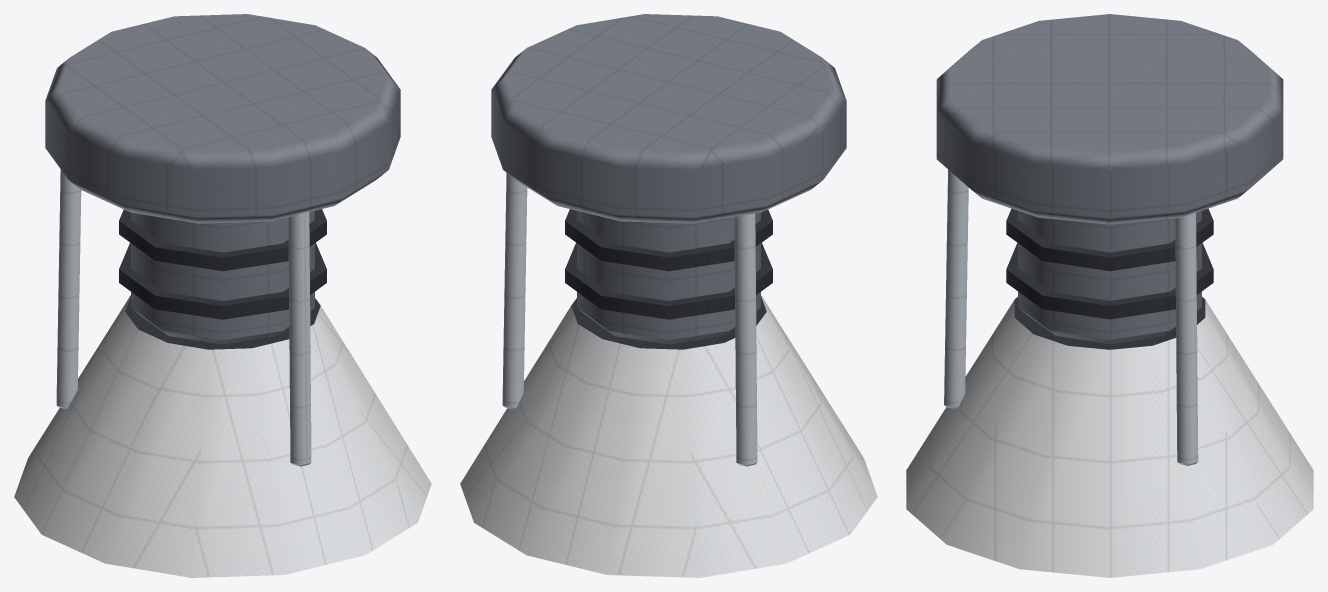
Rendered from R4X_JumpDrive_LOD1.glb.
3 renders of one model, left to right at view 1: azimuth 30°, elevation 25°; view 2: azimuth 150°, elevation 25°; view 3: azimuth 270°, elevation 25°, orthographic.
Visible parts, largest first — view 1: R4X_JumpDrive_LOD1; view 2: R4X_JumpDrive_LOD1; view 3: R4X_JumpDrive_LOD1.
Part boxes in pixels (left/top/right/bottom): R4X_JumpDrive_LOD1: left=14, top=14, right=431, bottom=577; R4X_JumpDrive_LOD1: left=460, top=14, right=877, bottom=577; R4X_JumpDrive_LOD1: left=906, top=14, right=1313, bottom=577.
Size of the model in its own units: 0.47 by 0.51 by 0.4582.
Materials: 5 (4 with a texture image).
